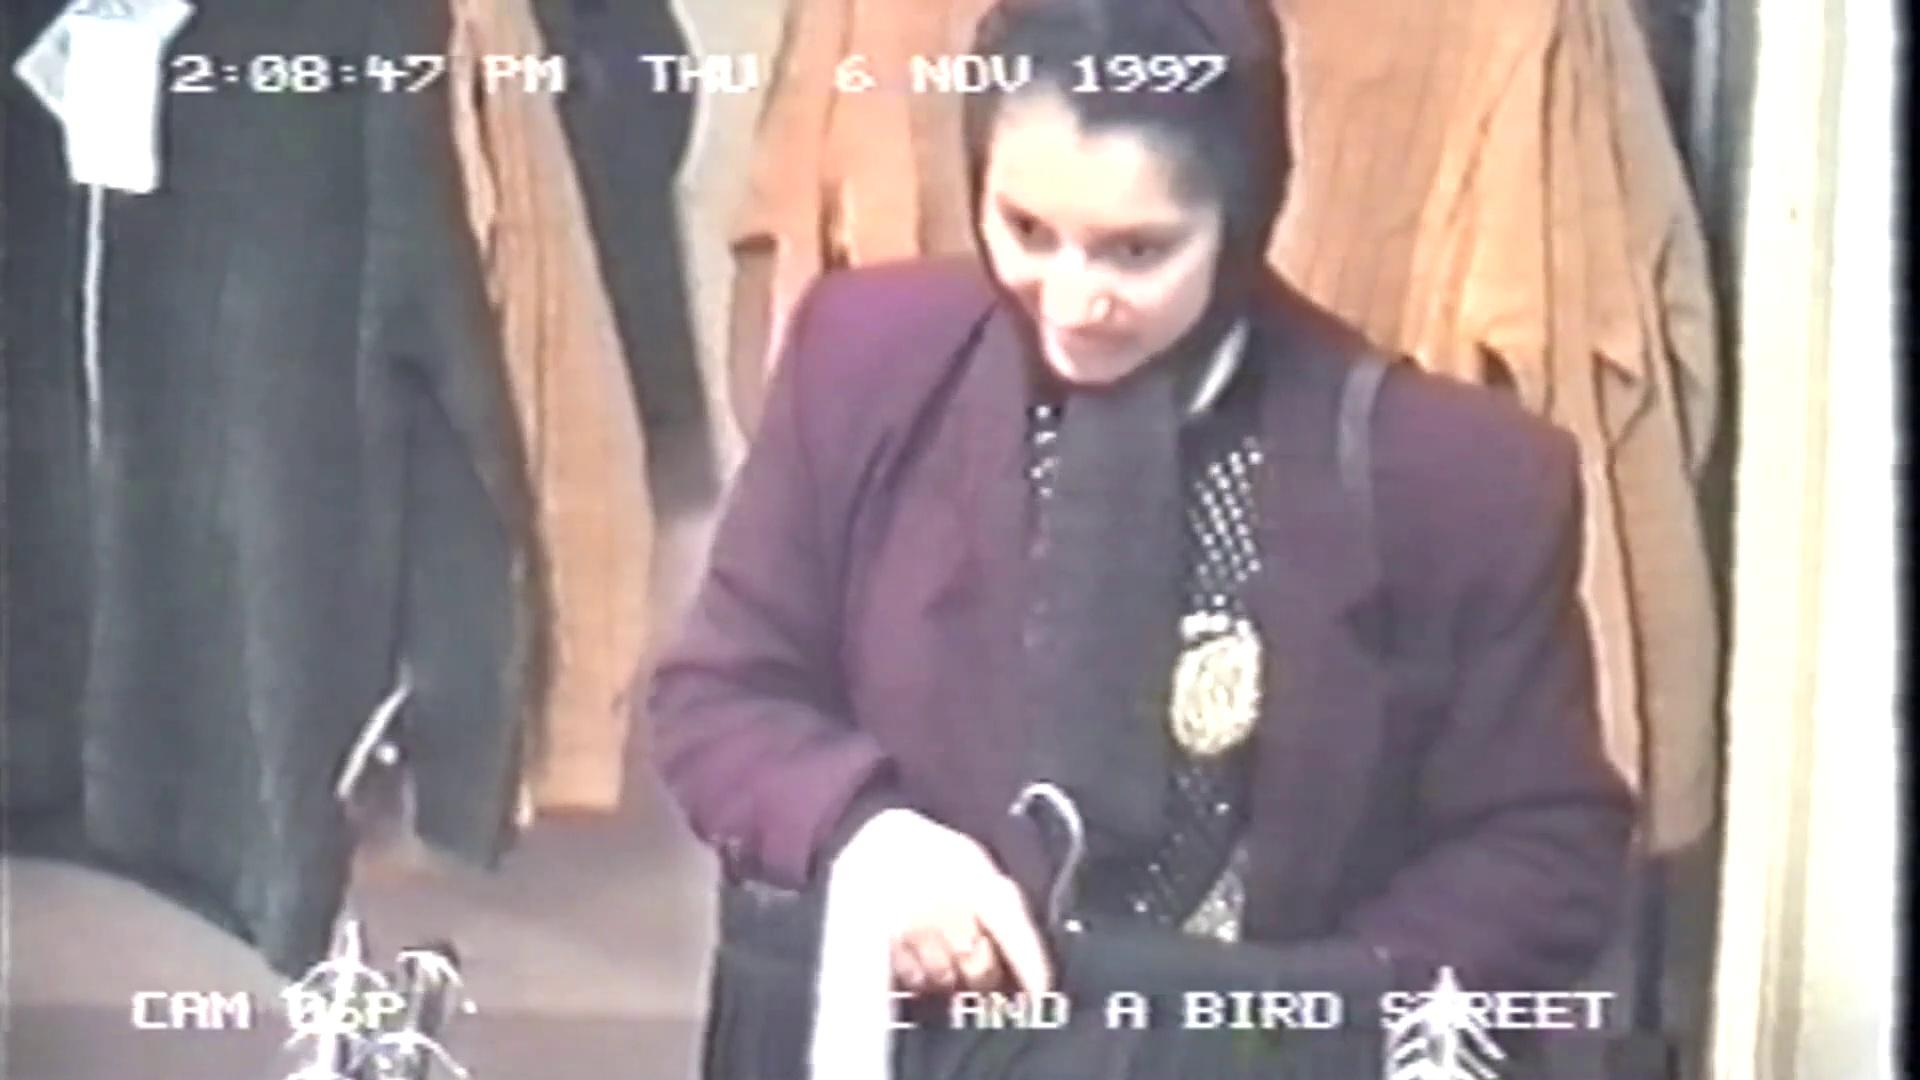Product: (682, 825, 1331, 1080)
Product-Picked: (555, 0, 1647, 1080)
